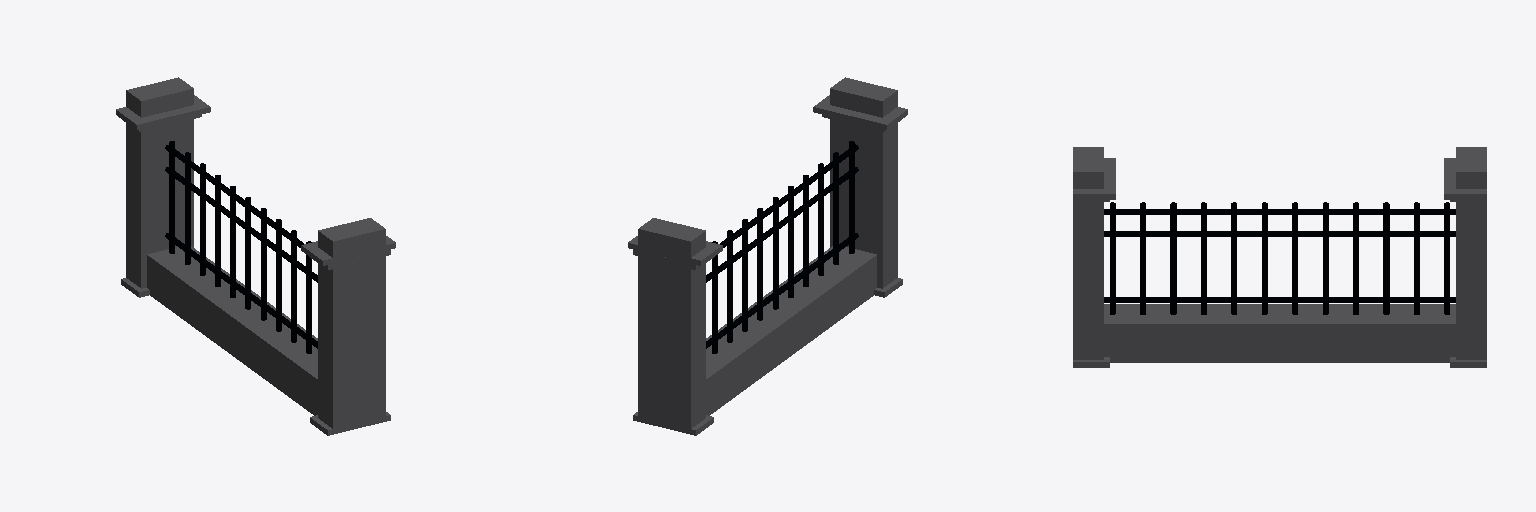
The model's file is Fence.obj.
3 views of the same model, side by side, from view 1: azimuth 30°, elevation 25°; view 2: azimuth 150°, elevation 25°; view 3: azimuth 270°, elevation 25° (orthographic).
Parts seen in each view (by area): view 1: Part23, Part25, Part7, Part4, Part1, Part2, Part24, Part14, Part12, Part9, Part15, Part6 (+8 smaller); view 2: Part7, Part25, Part23, Part1, Part4, Part9, Part24, Part14, Part12, Part2, Part17, Part21 (+8 smaller); view 3: Part25, Part7, Part23, Part24, Part12, Part14, Part1, Part4, Part2, Part9, Part10, Part19 (+10 smaller).
Boxes of the visible parts, x1=… form: Part23: x1=318, y1=256, x2=385, y2=434; Part25: x1=147, y1=246, x2=317, y2=415; Part7: x1=126, y1=119, x2=193, y2=288; Part4: x1=318, y1=218, x2=385, y2=257; Part1: x1=126, y1=77, x2=193, y2=117; Part2: x1=116, y1=95, x2=210, y2=129; Part24: x1=165, y1=233, x2=317, y2=348; Part14: x1=165, y1=167, x2=317, y2=282; Part12: x1=165, y1=145, x2=303, y2=247; Part9: x1=301, y1=236, x2=395, y2=265; Part15: x1=245, y1=197, x2=250, y2=309; Part6: x1=169, y1=141, x2=174, y2=253; Part7: x1=638, y1=256, x2=705, y2=434; Part25: x1=706, y1=246, x2=876, y2=415; Part23: x1=830, y1=119, x2=897, y2=288; Part1: x1=638, y1=218, x2=705, y2=257; Part4: x1=830, y1=77, x2=897, y2=117; Part9: x1=813, y1=95, x2=907, y2=129; Part24: x1=706, y1=233, x2=858, y2=348; Part14: x1=706, y1=167, x2=858, y2=282; Part12: x1=720, y1=144, x2=858, y2=247; Part2: x1=628, y1=236, x2=722, y2=265; Part17: x1=773, y1=197, x2=778, y2=309; Part21: x1=849, y1=141, x2=854, y2=253; Part25: x1=1104, y1=304, x2=1455, y2=362; Part7: x1=1456, y1=202, x2=1486, y2=359; Part23: x1=1073, y1=202, x2=1103, y2=359; Part24: x1=1104, y1=297, x2=1455, y2=302; Part12: x1=1104, y1=209, x2=1455, y2=214; Part14: x1=1104, y1=231, x2=1455, y2=236; Part1: x1=1456, y1=147, x2=1486, y2=188; Part4: x1=1073, y1=147, x2=1103, y2=188; Part2: x1=1444, y1=158, x2=1486, y2=199; Part9: x1=1073, y1=158, x2=1115, y2=199; Part10: x1=1383, y1=202, x2=1389, y2=314; Part19: x1=1170, y1=202, x2=1176, y2=314.
Size of the model in its own units: 2.8 by 7 by 13.6.